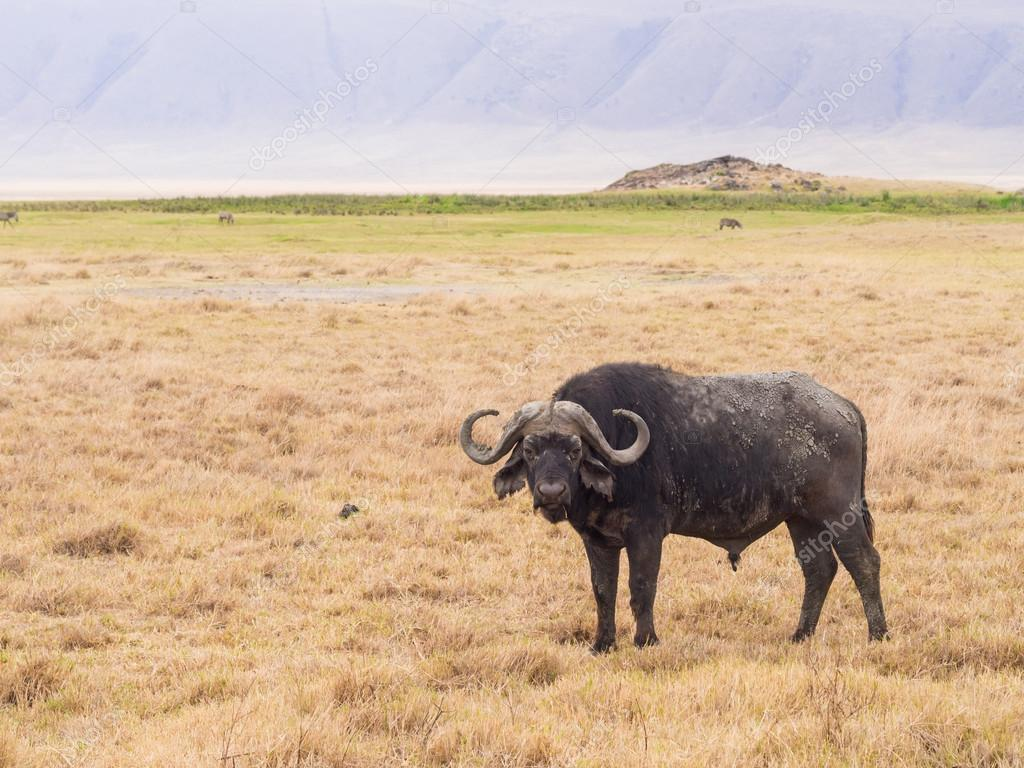Buffalo: (444, 321, 1024, 667)
